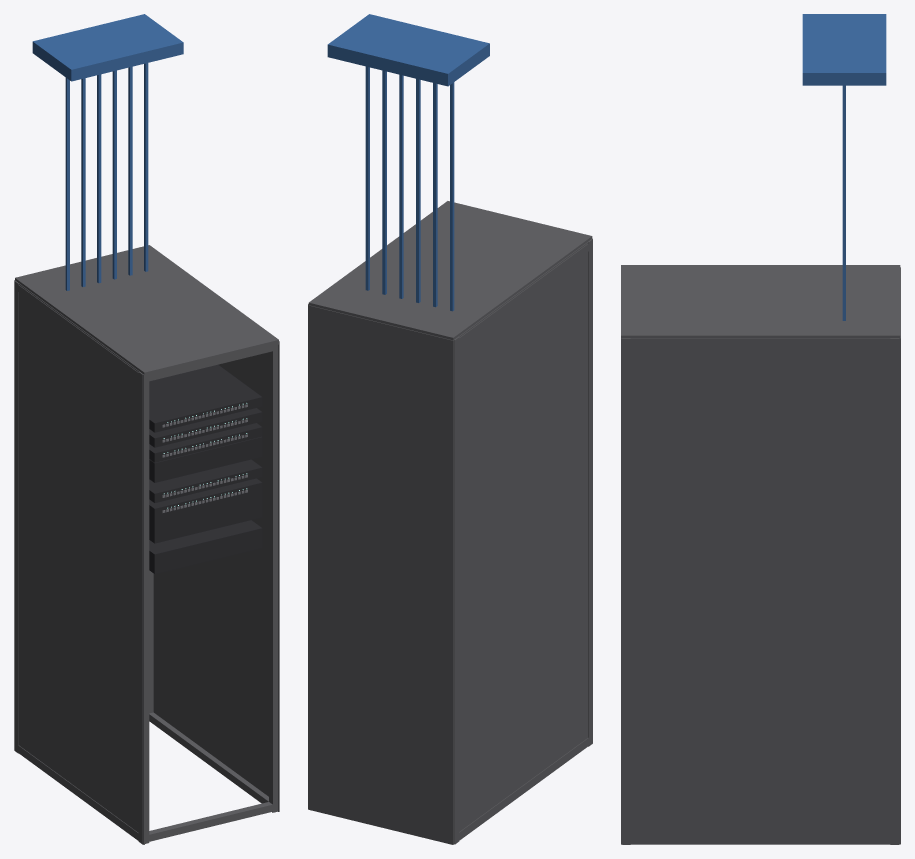
Rendered from rack_42u.glb.
3 views of the same model, side by side, from view 1: azimuth 30°, elevation 25°; view 2: azimuth 150°, elevation 25°; view 3: azimuth 270°, elevation 25° (orthographic). The views are drawn at different scales.
Parts seen in each view (by area): view 1: Frame, Units, CableTray, Ports; view 2: Frame, CableTray; view 3: Frame, CableTray.
Part boxes in pixels (x1,y1,x2,y2): Frame: (14,245,279,844); Units: (149,364,262,573); CableTray: (32,14,183,290); Ports: (162,404,247,512); Frame: (308,201,592,844); CableTray: (327,14,489,311); Frame: (621,265,900,844); CableTray: (802,14,886,320).
Bounding box in the file's own units: 0.61 × 3.03 × 1.
